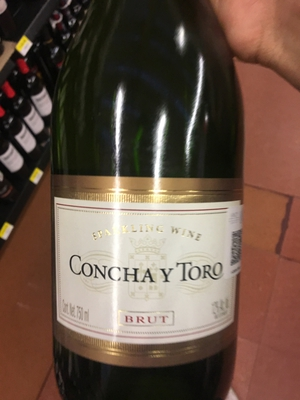brut: (53, 20, 250, 400)
